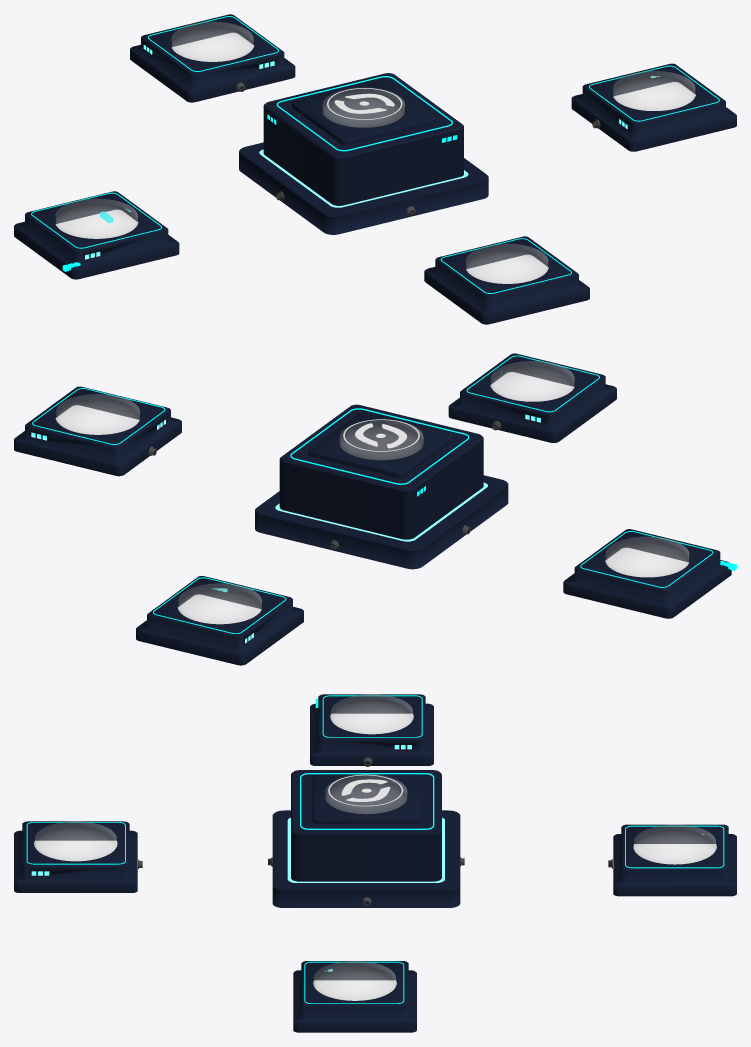
File: Test_for_blender(7).glb
3 views of the same model, one above another, from view 1: azimuth 30°, elevation 25°; view 2: azimuth 150°, elevation 25°; view 3: azimuth 270°, elevation 25° (orthographic). The views are drawn at different scales.
Visible parts, largest first — view 1: Platform, Platformm_2.004, Platformm_2.003, Platformm_2.002, Platformm_2.001, Platformm_2, Glass.004, Glass.001, Glass.002, Glass.003, Glass, Decal (+1 smaller); view 2: Platform, Platformm_2.002, Platformm_2.001, Platformm_2.004, Platformm_2.003, Platformm_2, Glass.002, Glass.003, Glass.004, Glass.001, Glass, Decal (+1 smaller); view 3: Platform, Platformm_2.002, Platformm_2.003, Platformm_2.004, Platformm_2.001, Platformm_2, Glass.003, Glass.001, Glass.004, Glass.002, Glass, Decal (+1 smaller).
Boxes of the visible parts, box(x1,y1,x2,y2) form: Platform: box(239, 73, 488, 234); Platformm_2.004: box(424, 236, 589, 324); Platformm_2.003: box(571, 63, 736, 151); Platformm_2.002: box(130, 14, 295, 102); Platformm_2.001: box(14, 191, 179, 279); Platformm_2: box(292, 80, 435, 144); Glass.004: box(466, 244, 547, 283); Glass.001: box(56, 199, 137, 238); Glass.002: box(172, 22, 253, 61); Glass.003: box(613, 71, 694, 110); Glass: box(323, 88, 404, 127); Decal: box(327, 88, 402, 119); Platform: box(255, 404, 508, 569); Platformm_2.002: box(136, 576, 303, 665); Platformm_2.001: box(563, 529, 731, 618); Platformm_2.004: box(448, 353, 616, 442); Platformm_2.003: box(14, 386, 181, 476); Platformm_2: box(308, 412, 454, 477); Glass.002: box(178, 583, 261, 623); Glass.003: box(56, 394, 139, 434); Glass.004: box(491, 361, 574, 401); Glass.001: box(606, 537, 688, 576); Glass: box(340, 420, 423, 459); Decal: box(343, 419, 419, 451); Platform: box(272, 770, 460, 907); Platformm_2.002: box(613, 824, 736, 896); Platformm_2.003: box(293, 961, 416, 1032); Platformm_2.004: box(14, 821, 137, 892); Platformm_2.001: box(310, 694, 433, 765); Platformm_2: box(312, 774, 419, 823); Glass.003: box(314, 961, 395, 1000); Glass.001: box(331, 694, 412, 733); Glass.004: box(35, 821, 116, 860); Glass.002: box(634, 825, 715, 864); Glass: box(325, 774, 406, 813); Decal: box(328, 774, 403, 806).
Bounding box in the file's own units: 15.62 × 1.77 × 14.83.
Materials: 7 (1 with a texture image).
